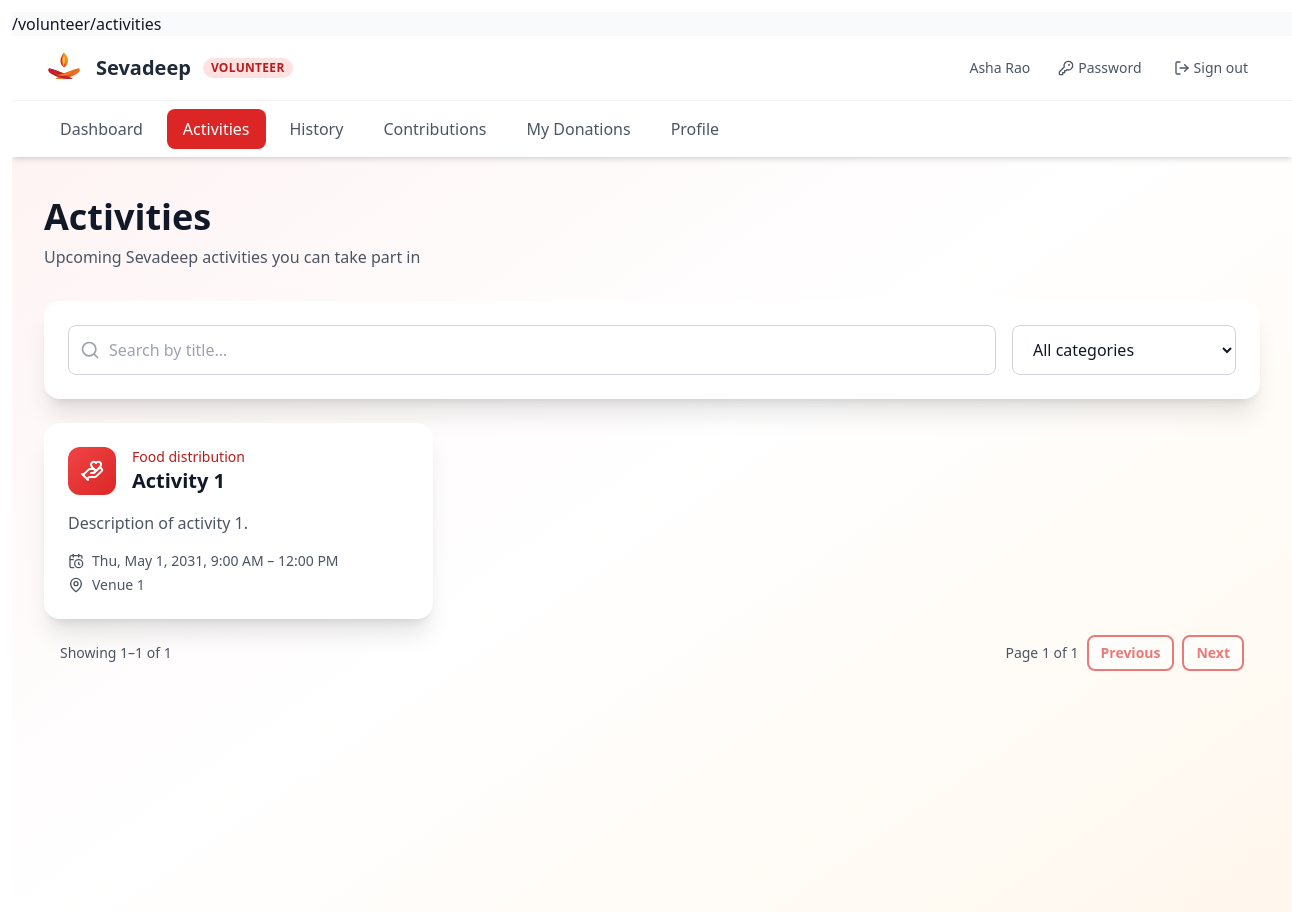
Test: volunteer Activities page › searches (debounced) and filters by category, reflected in the URL
The width and height of the screenshot is (1292, 912).
Expected: the link "Activity 1" is shown, top-left (132, 467), bottom-right (225, 494)
In the search field named "Search activities": (532, 350) top-left (68, 325), bottom-right (996, 375), type "match"
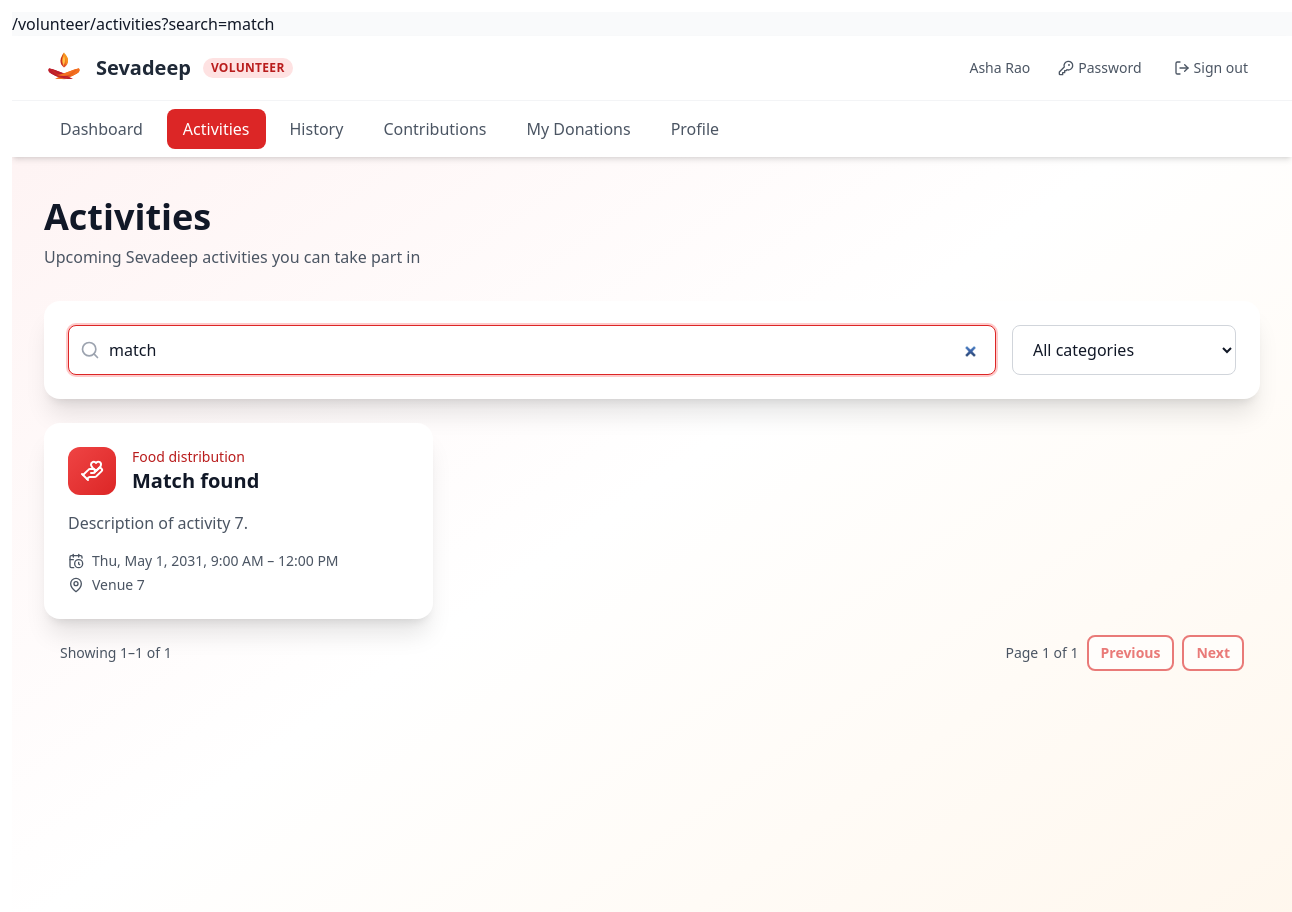
Now the link "Match found" is shown, box top-left (132, 467), bottom-right (259, 494)
Now the text with test id "location" reads "/volunteer/activities?search=match", box top-left (12, 13), bottom-right (274, 35)
Clear the search field named "Search activities": (532, 350) top-left (68, 325), bottom-right (996, 375)
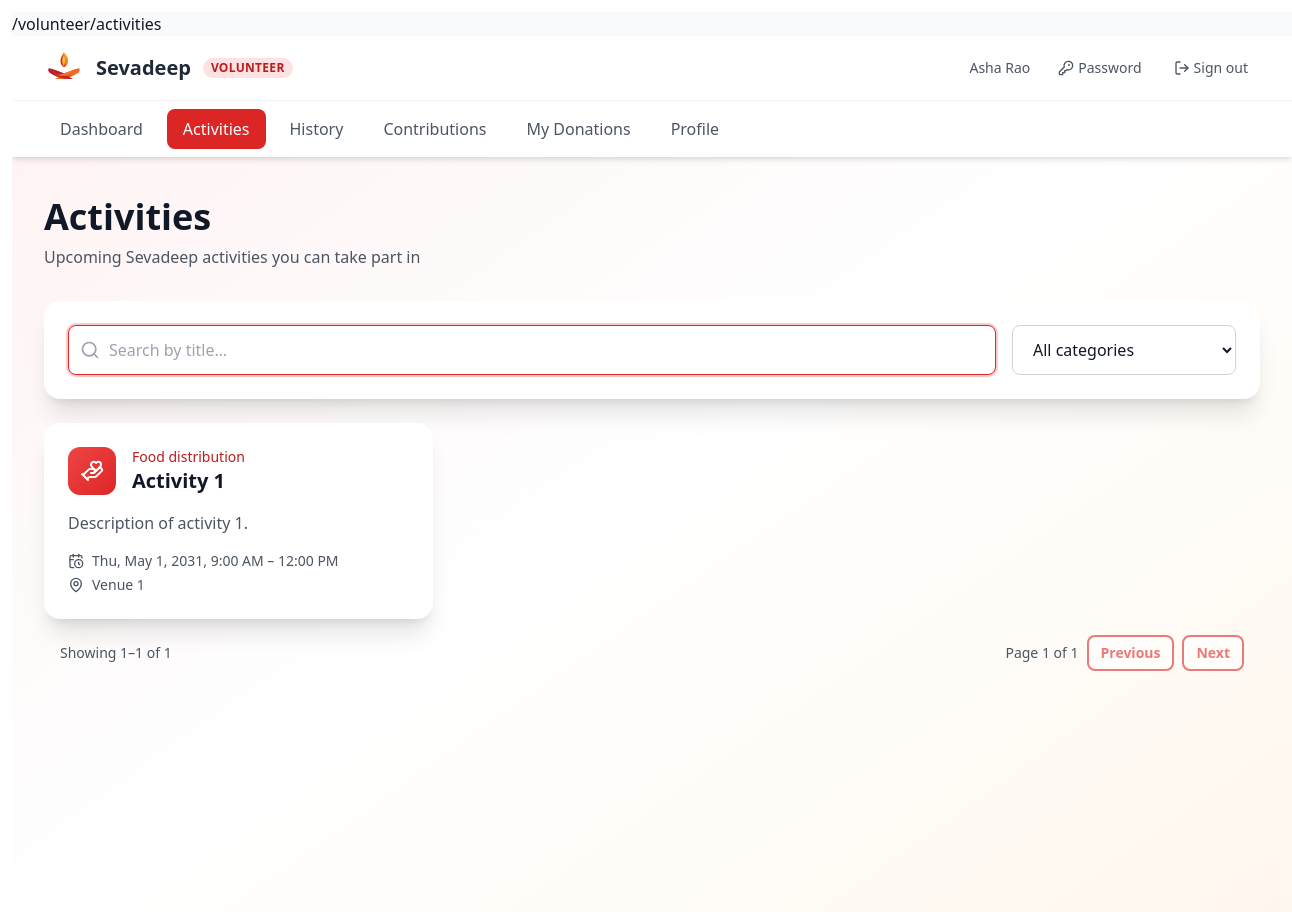
Expected: the text with test id "location" reads "/volunteer/activities", top-left (12, 13), bottom-right (162, 35)
Select "Health camp" in the dropdown named "Filter by category": (1124, 350) top-left (1012, 325), bottom-right (1236, 375)
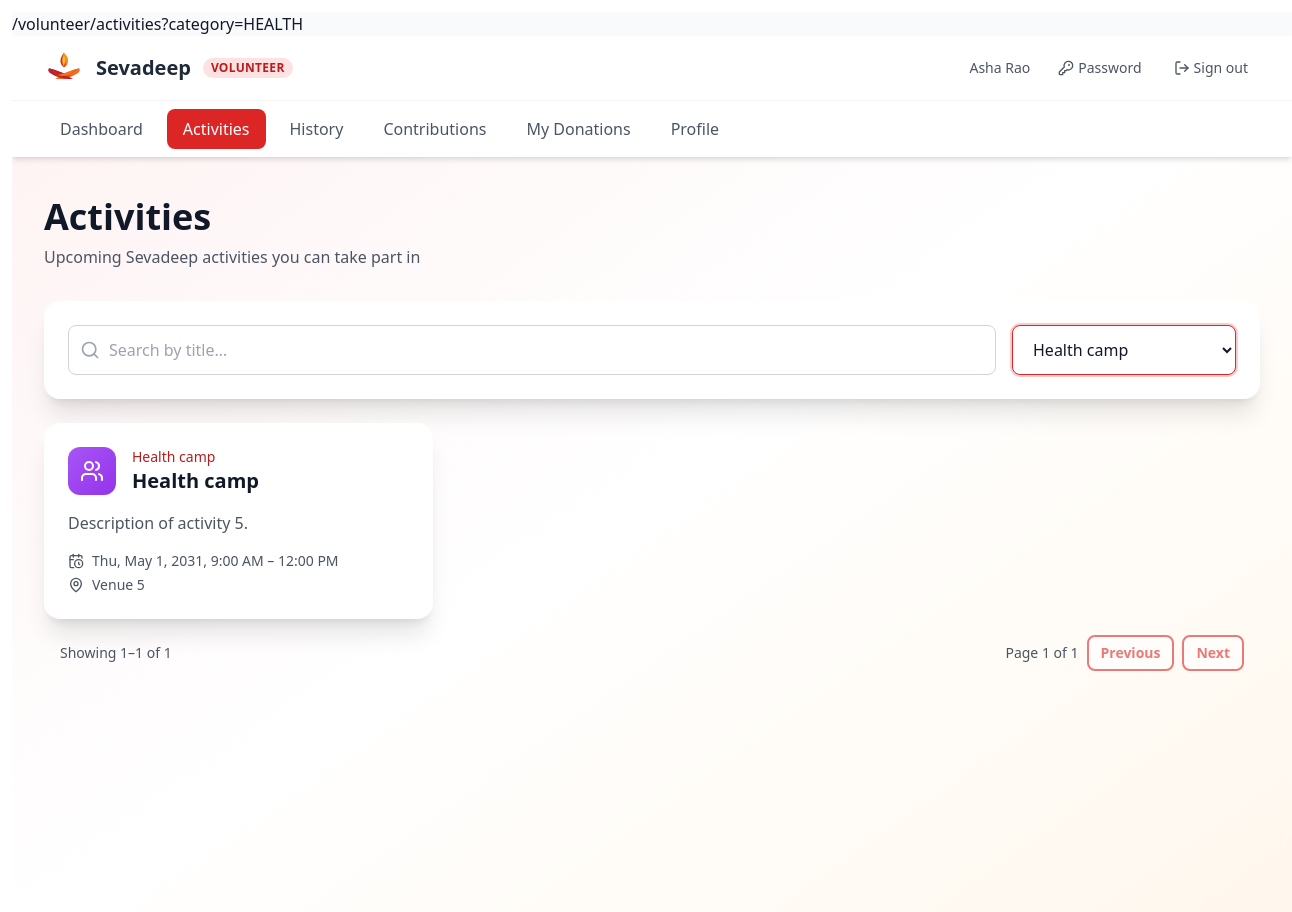
Now the link "Health camp" is shown, box top-left (132, 467), bottom-right (259, 494)
Now the text with test id "location" reads "/volunteer/activities?category=HEALTH", box top-left (12, 13), bottom-right (303, 35)
